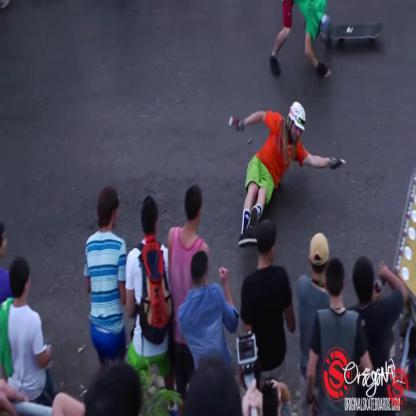Fall_Down: (227, 99, 349, 249)
